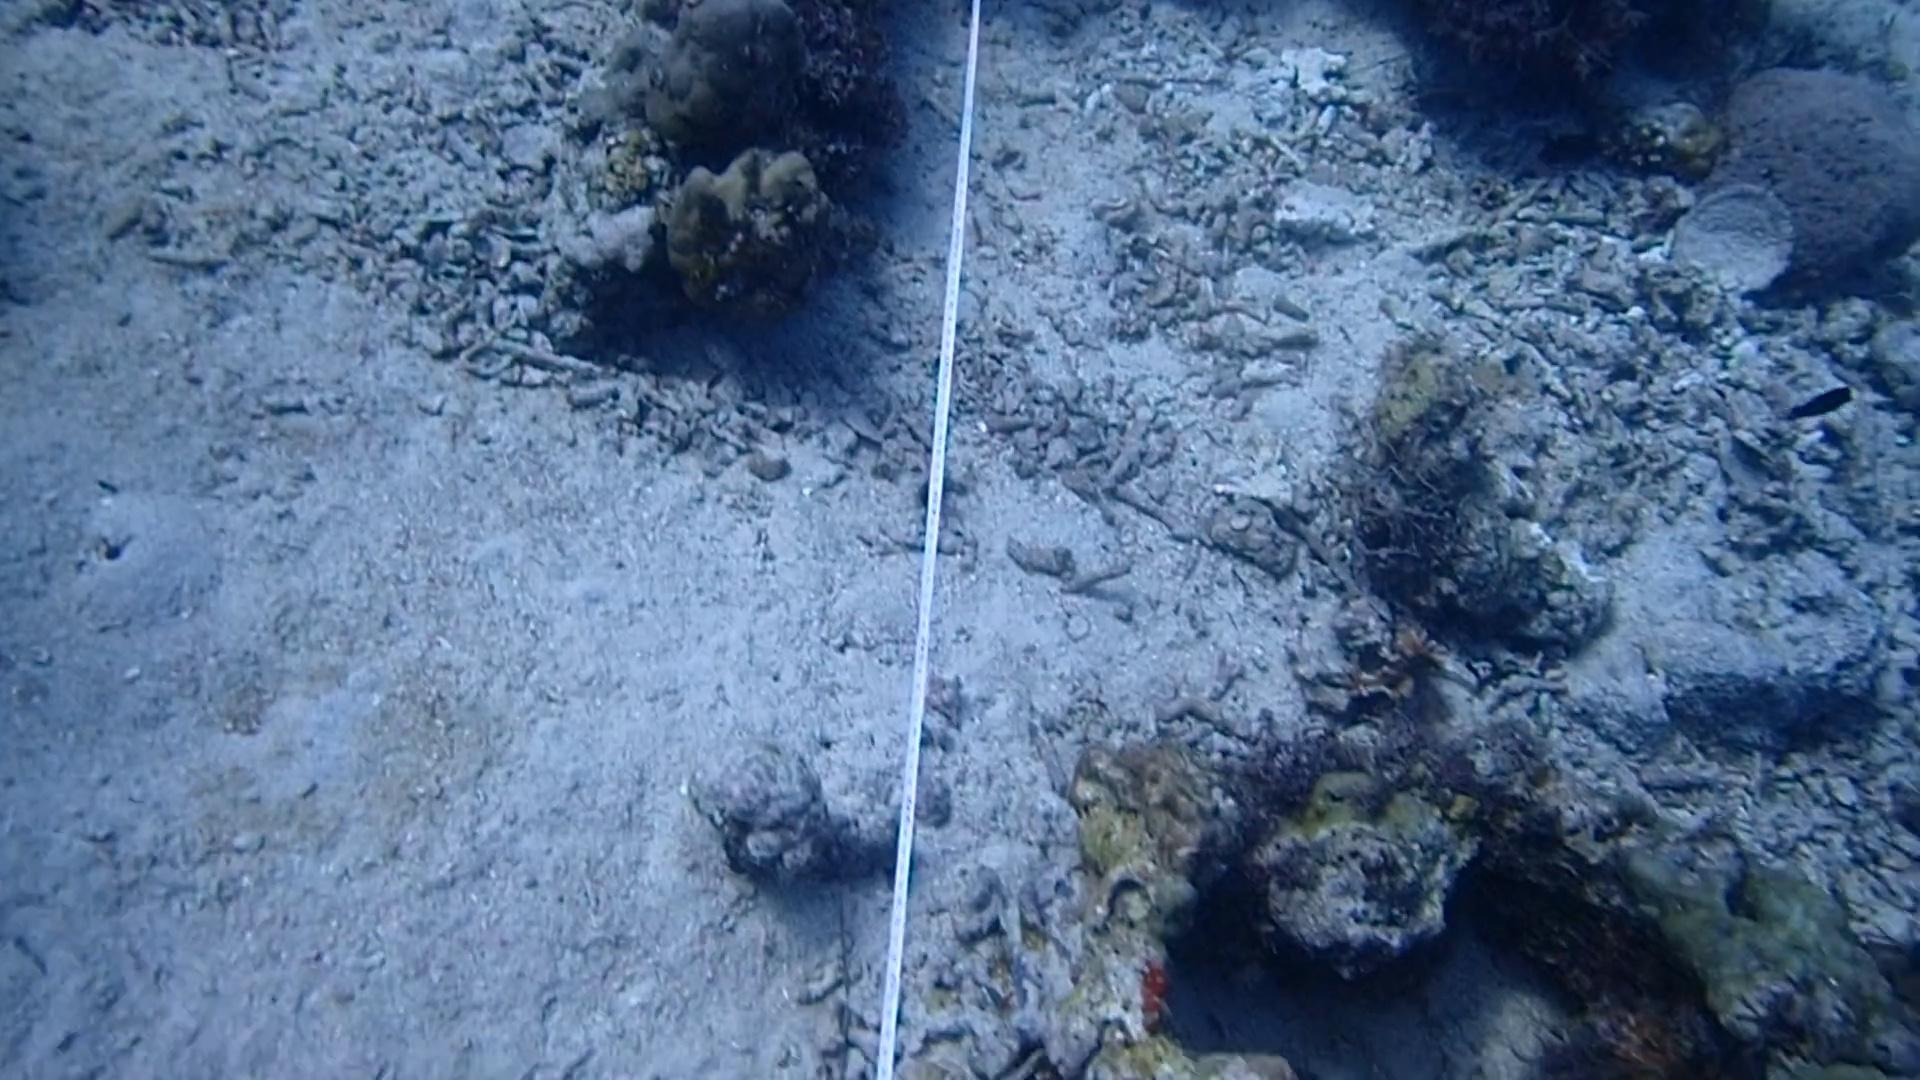Dark Fish: (1783, 372, 1859, 431), (1534, 123, 1604, 179)
